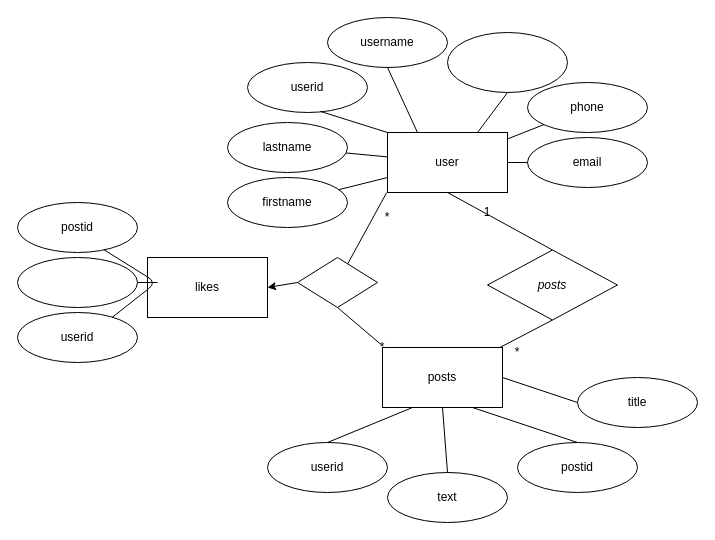
The diagram is 715 pixels wide and 540 high, and some of its shapes have lost their labels. Each missing label, with the centre of its shape:
"likeid" goes at (77,282).
"likes post" goes at (337,282).
"password" goes at (507,62).
